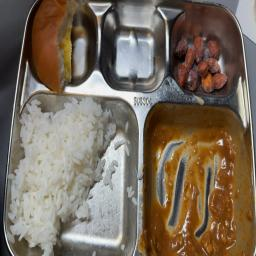25_bread: (29, 1, 97, 93)
50_nuts: (176, 17, 229, 96)
50_rice: (13, 95, 131, 254)
empty: (147, 104, 248, 256), (104, 8, 164, 94)
